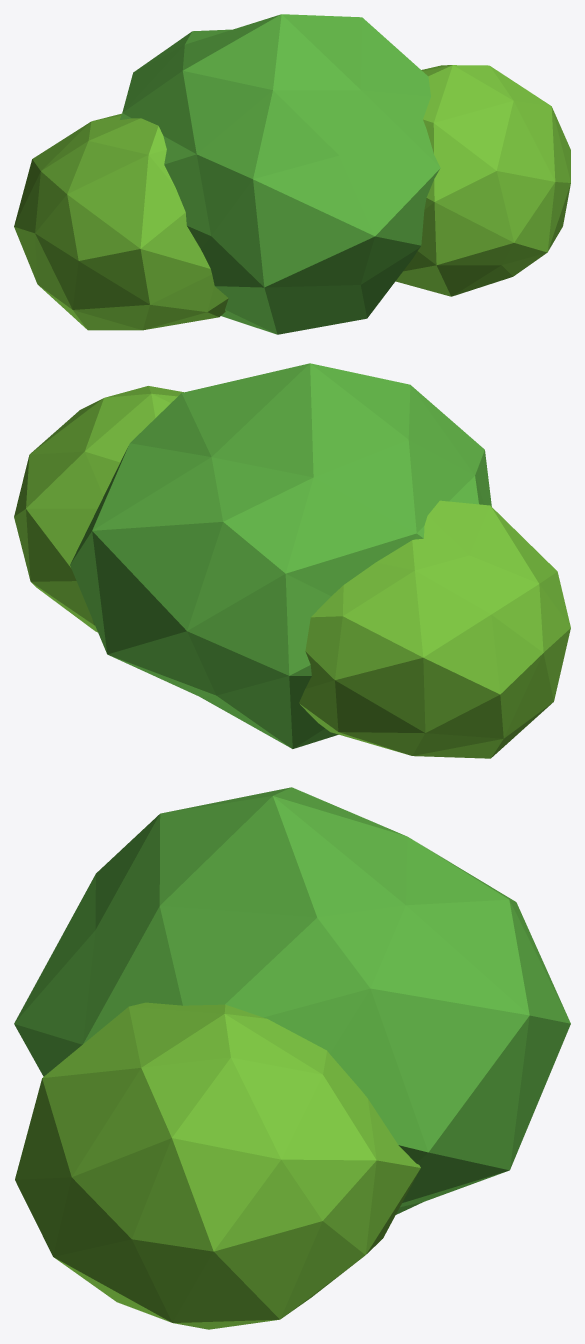
File: arbusto_v2.glb
3 views of the same model, one above another, from view 1: azimuth 30°, elevation 25°; view 2: azimuth 150°, elevation 25°; view 3: azimuth 270°, elevation 25° (orthographic). The views are drawn at different scales.
Visible parts, largest first — view 1: bola_1, bola_3, bola_2; view 2: bola_1, bola_3, bola_2; view 3: bola_1, bola_2.
Boxes of the visible parts, left/top/right/bottom form: bola_1: left=120, top=14, right=440, bottom=334; bola_3: left=14, top=113, right=228, bottom=330; bola_2: left=395, top=65, right=570, bottom=296; bola_1: left=70, top=363, right=491, bottom=748; bola_3: left=299, top=500, right=570, bottom=758; bola_2: left=14, top=386, right=183, bottom=632; bola_1: left=14, top=787, right=570, bottom=1214; bola_2: left=15, top=1002, right=420, bottom=1329.
Size of the model in its own units: 2.14 by 1.26 by 1.46.
